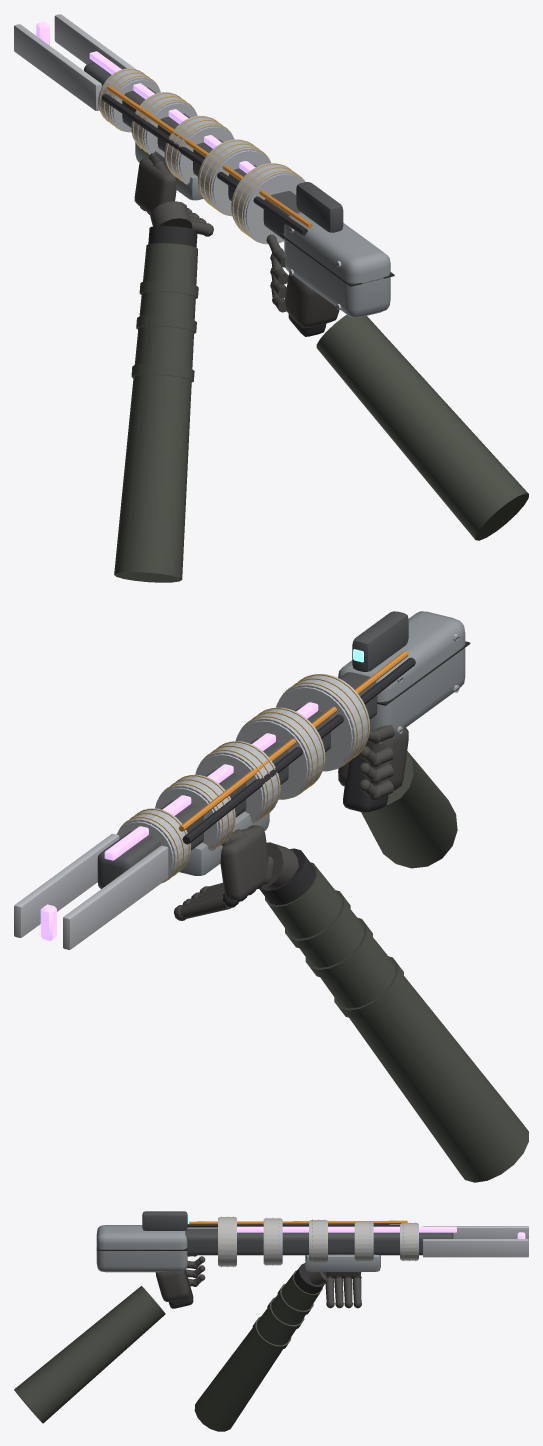
Rendered from vm_rail.glb.
3 views of the same model, one above another, from view 1: azimuth 30°, elevation 25°; view 2: azimuth 150°, elevation 25°; view 3: azimuth 270°, elevation 25° (orthographic). The views are drawn at different scales.
Parts seen in each view (by area): view 1: vm_rail; view 2: vm_rail; view 3: vm_rail.
Part boxes in pixels (x1=…): vm_rail: x1=14, y1=14, x2=528, y2=582; vm_rail: x1=14, y1=611, x2=528, y2=1182; vm_rail: x1=14, y1=1211, x2=528, y2=1431.
Size of the model in its own units: 0.5223 by 0.7415 by 1.36.
